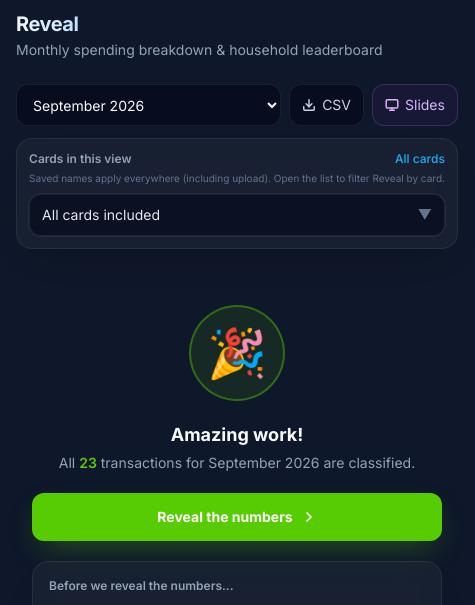
RevealPage › shows income editor after dismissing completion screen
This screenshot has width=475, height=605.
# Act — dismiss the "all classified" completion screen
Click the button "Reveal the numbers" at (237, 517), box [32, 493, 442, 541]
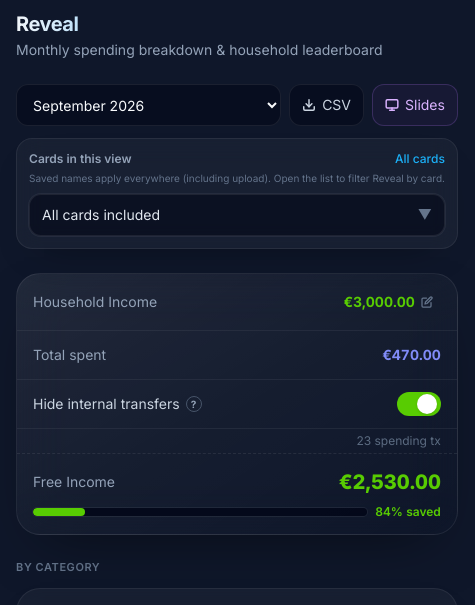
Check: the text "Household Income" is shown, box [33, 292, 157, 312]
